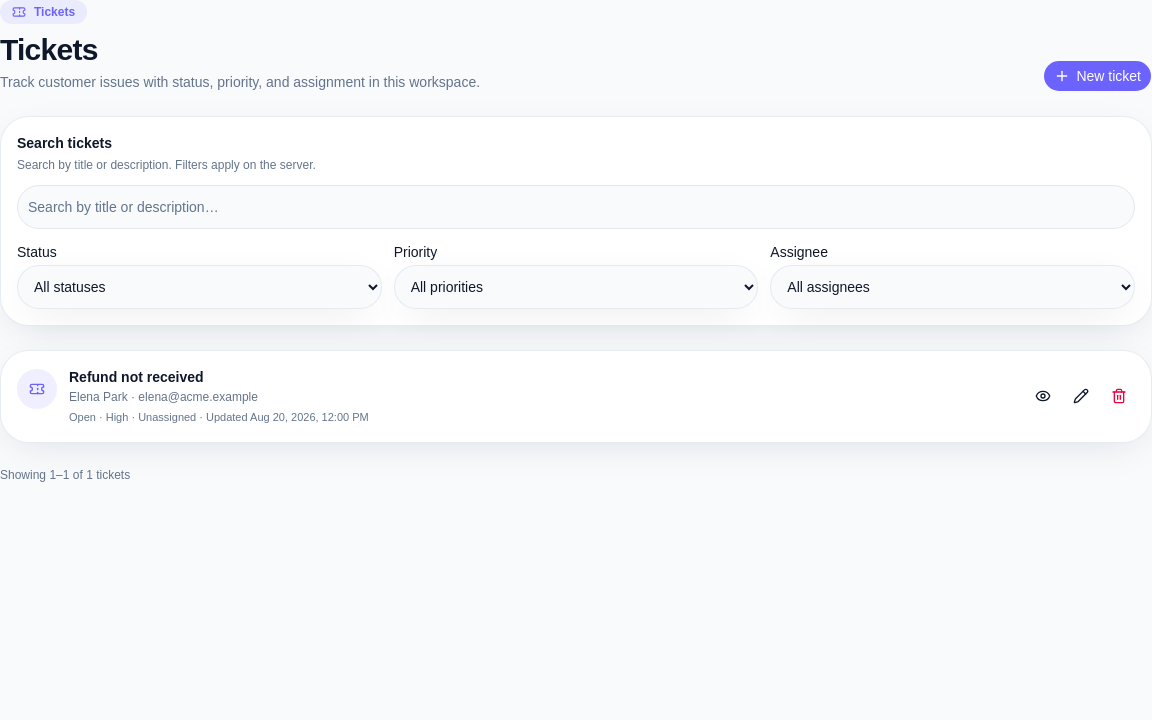
TicketsBoard › opens ticket details
expect the text "Refund not received" is shown: met, box x1=69 y1=369 x2=204 y2=385
Click the button named "View Refund not received". click: (1043, 396)
box: x1=1027 y1=380 x2=1059 y2=412
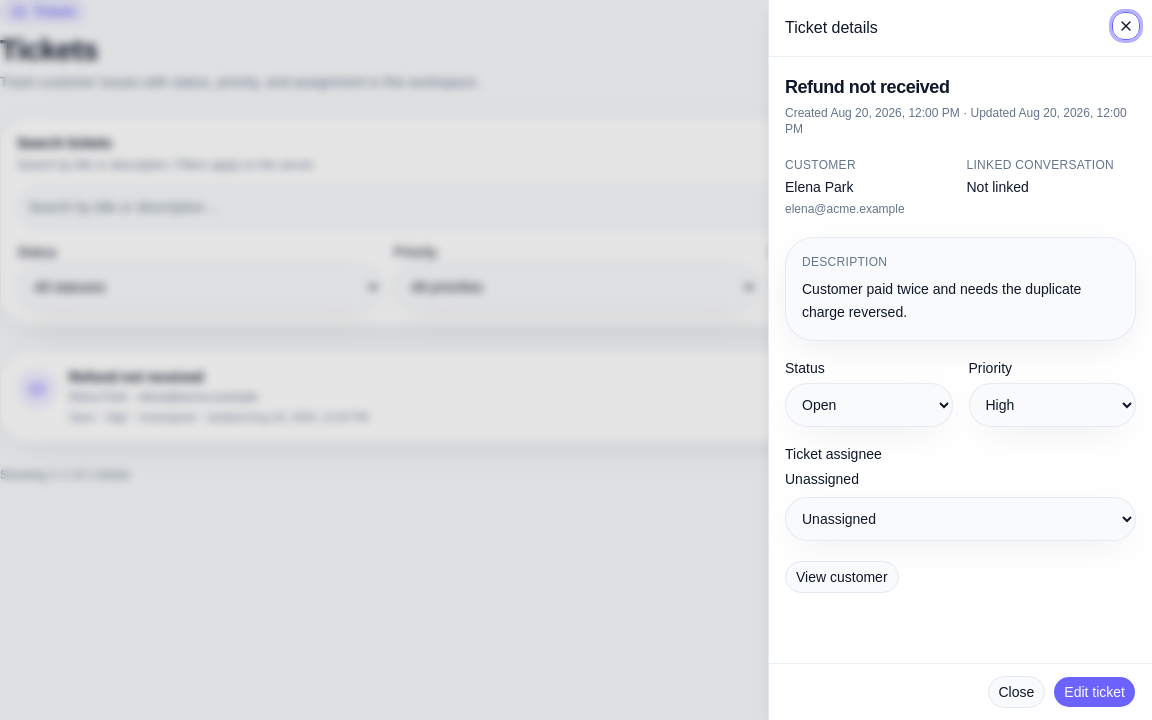
expect the heading "Refund not received" is shown: met, box x1=785 y1=77 x2=950 y2=97
expect the text "Customer" is shown: met, box x1=785 y1=158 x2=856 y2=172
expect the text "Elena Park" is shown: met, box x1=785 y1=179 x2=854 y2=195
